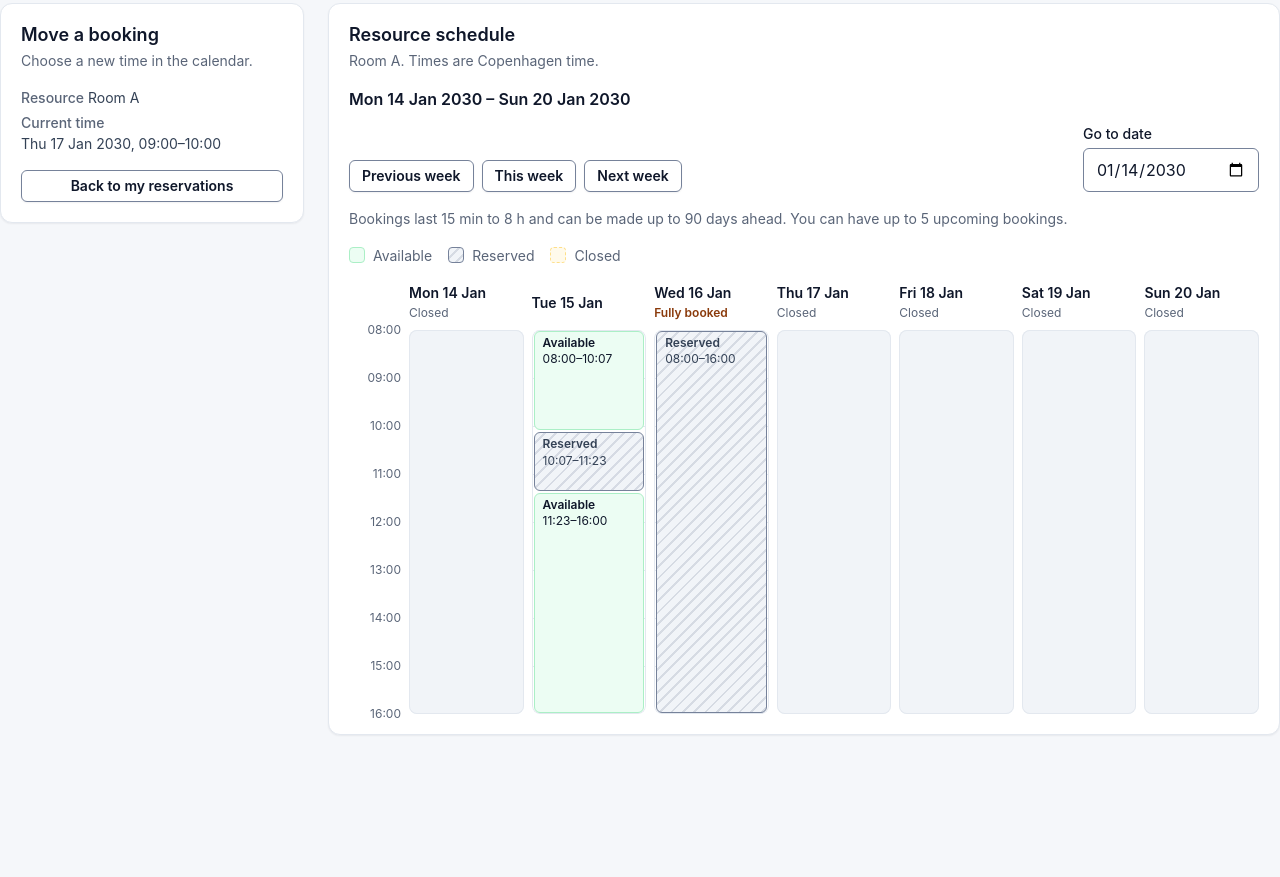
Test case: BookingPage moving a booking › moves the booking with its version and returns to booking in the same week
Expected: the text "Thu 17 Jan 2030, 09:00–10:00" is shown, [21,133,221,154]
Click the button with aria-label "Available Tue 15 Jan 2030, 08:00–10:07. Choose a time": [589, 380] box [534,331,644,430]
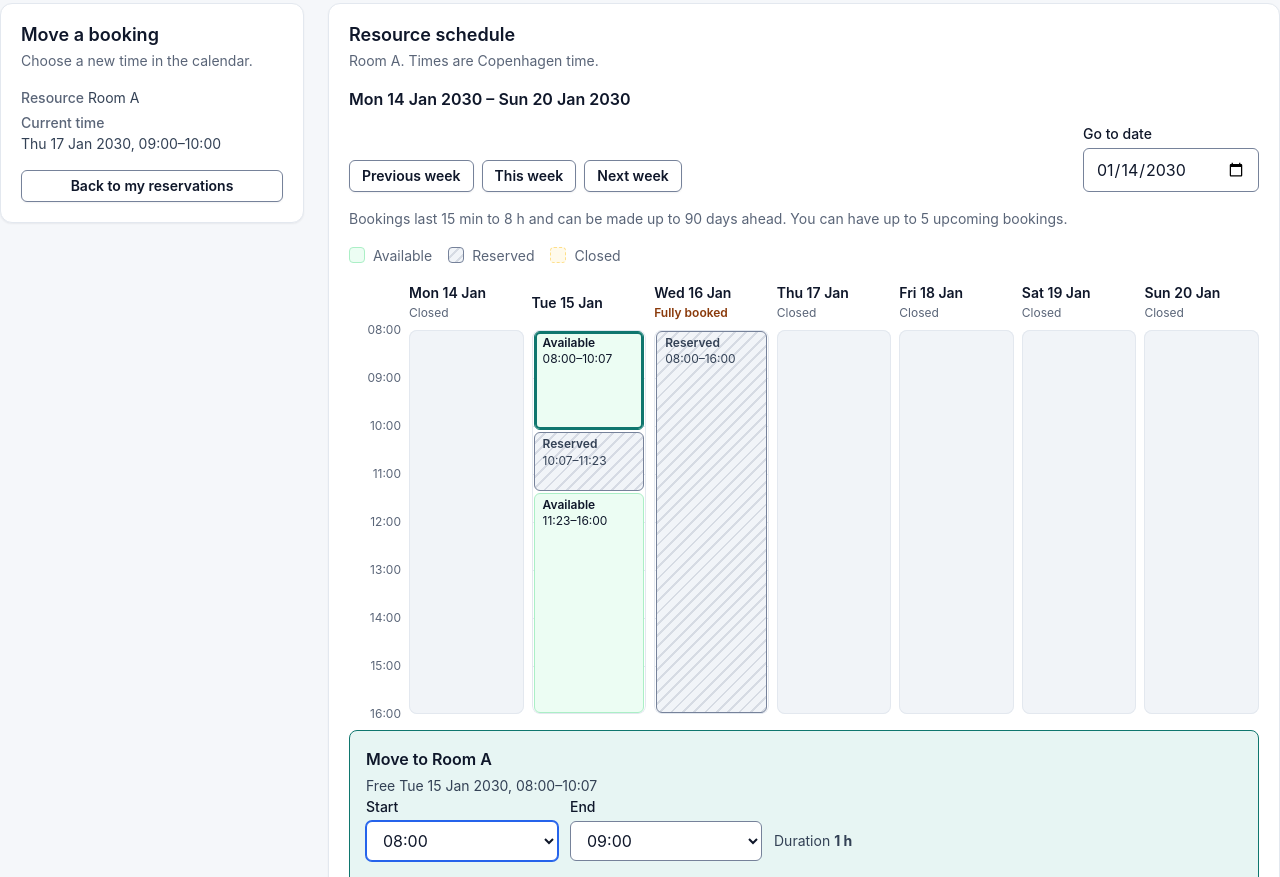
Result: the element "Move to Room A Free Tue 15 Jan 2030, 08:00–10:07" is shown at [366,749,852,861]
Select "08:30" in the dropdown labelled "Start": [462, 841] box [366,821,558,861]
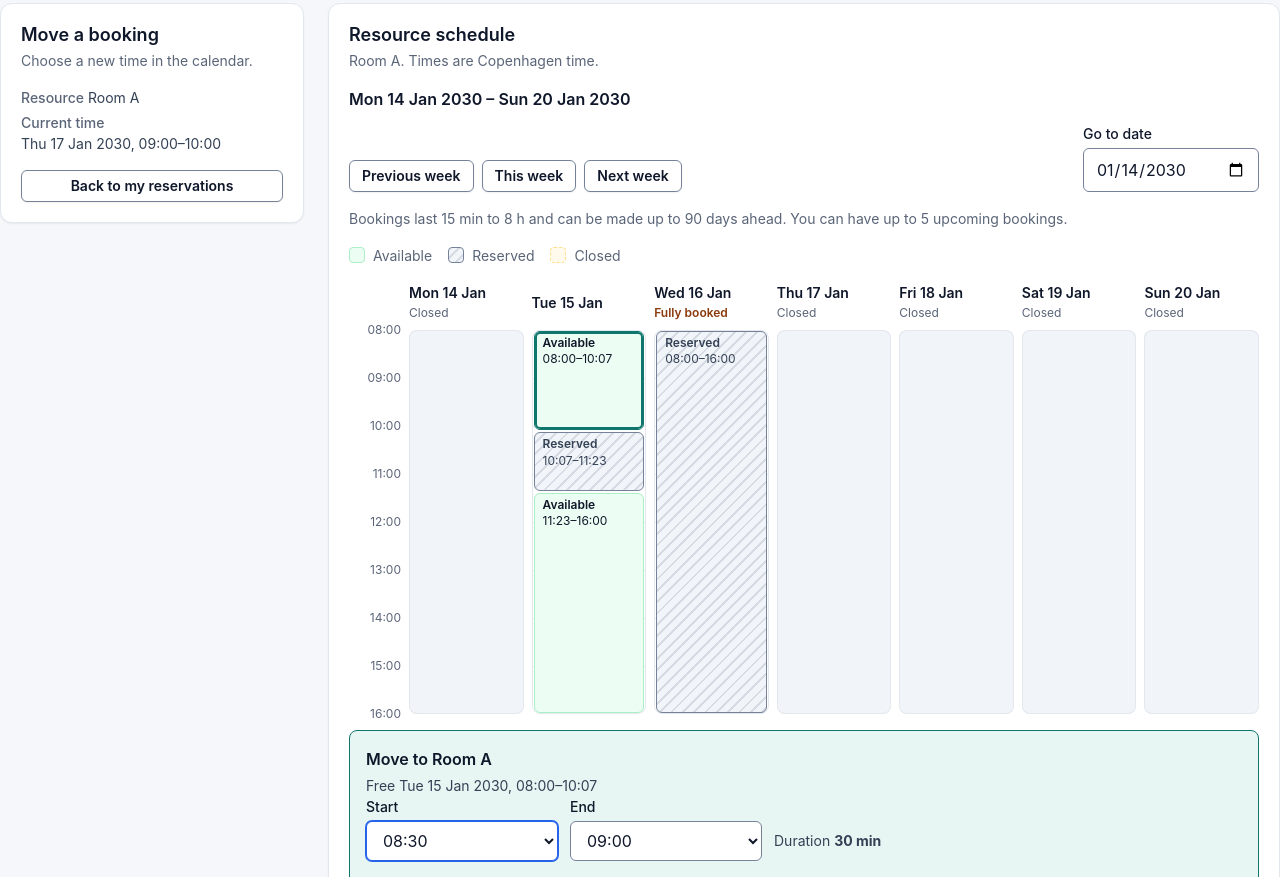
Select "09:30" in the dropdown labelled "End": [666, 841] box [570,821,762,861]
(page scrolled)
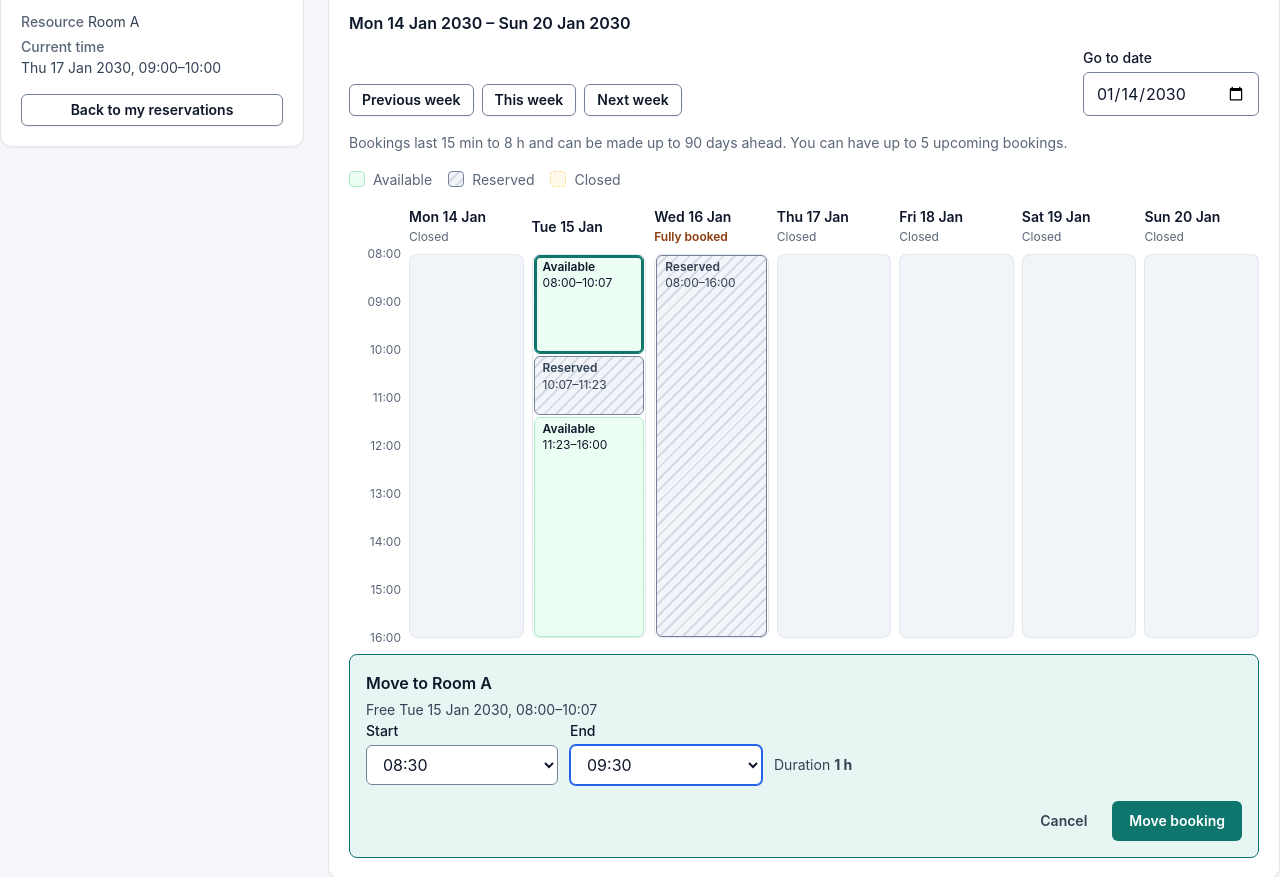
Click the button "Move booking": [1177, 821] box [1112,801,1242,841]
(page scrolled)
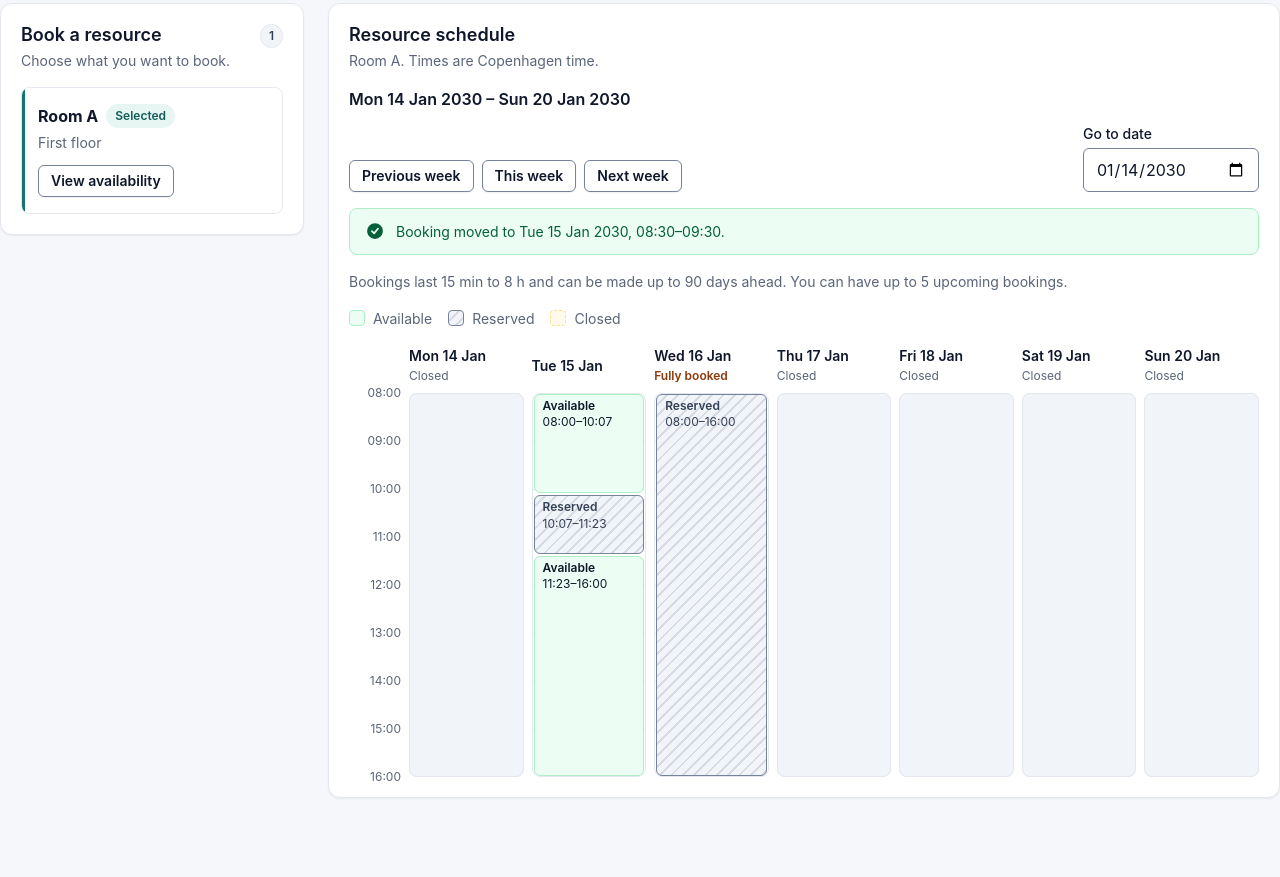
Result: the message reads "Booking moved to Tue 15 Jan 2030, 08:30–09:30." at [396,223,725,240]
Result: the button with aria-label "View availability for Room A" is shown at [38,165,174,197]
